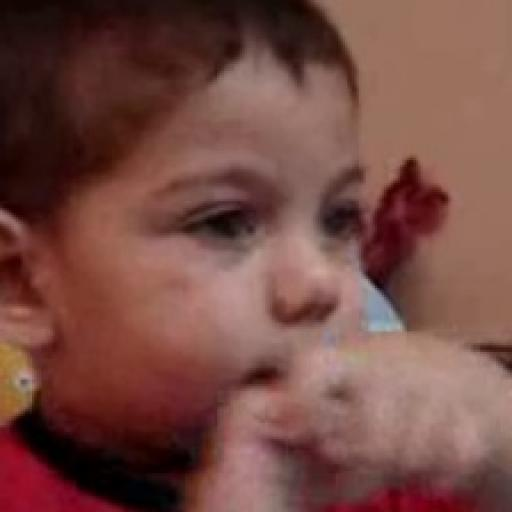Autism: (15, 5, 429, 460)
